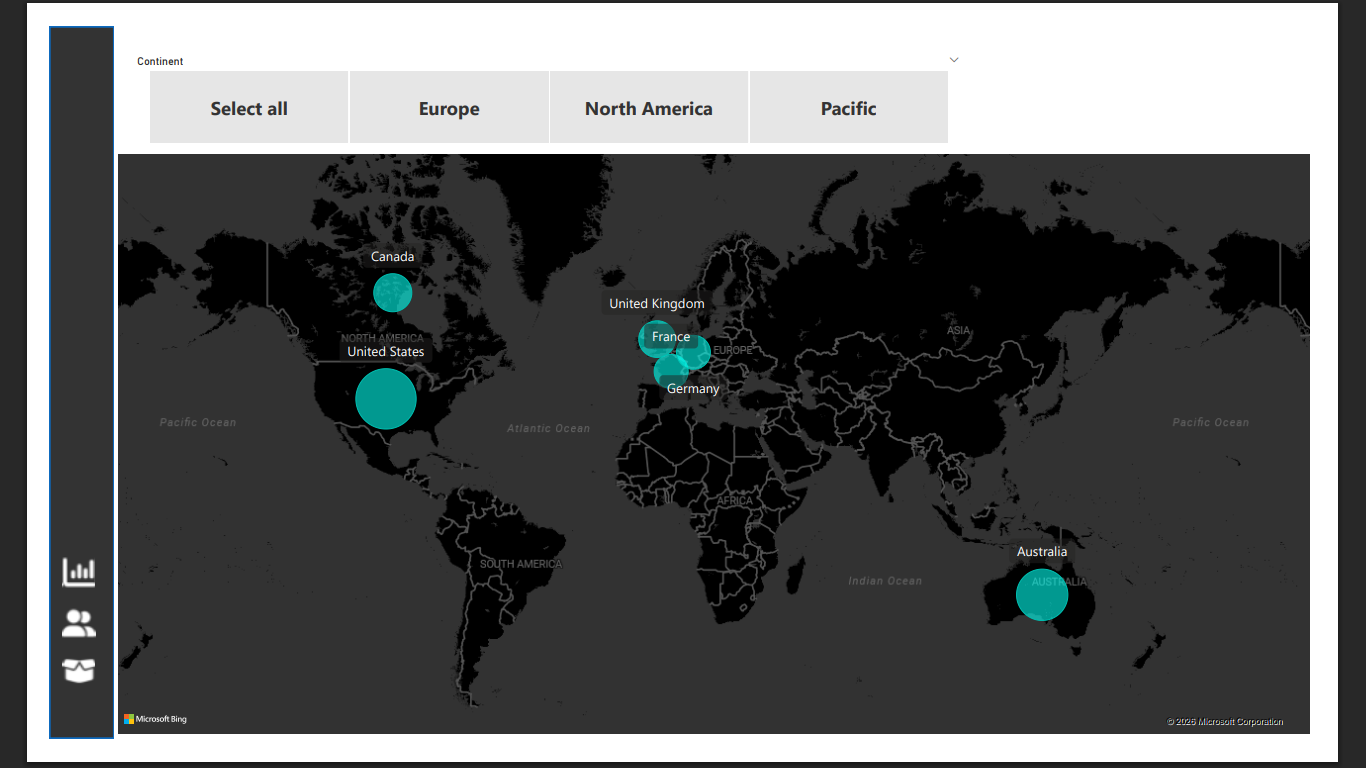

The page's visual inventory and layout, read from the dashboard file:
{"tool":"powerbi","page":{"name":"Map","canvas":[1280,720],"ordinal":3},"visuals":[{"type":"shape","box":[0,0,64.8,720],"z":0},{"type":"map","fields":{"Category":["Territory Lookup.Country"],"Size":["Measure Table.Total Orders"]},"box":[64.8,123.8,1215.4,596.2],"z":1000},{"type":"slicer","fields":{"Values":["Territory Lookup.Continent"]},"box":[76.3,24.5,856.8,99.4],"z":2000},{"type":"actionButton","box":[8.6,532.8,44.6,40.3],"z":3000},{"type":"actionButton","box":[8.6,583.2,44.6,40.3],"z":4000},{"type":"actionButton","box":[8.6,632.2,44.6,40.3],"z":5000}]}

Visuals, with their boxes in screenshot pixels (x1, y1, x2, y2), scaled from the page's 1280x720 canvas onto the 1366x768 screenshot:
shape: [0,0,69,767]
map - Territory Lookup.Country x Measure Table.Total Orders: [69,132,1365,767]
slicer - Territory Lookup.Continent: [81,26,996,132]
actionButton: [9,568,57,611]
actionButton: [9,622,57,665]
actionButton: [9,674,57,717]
